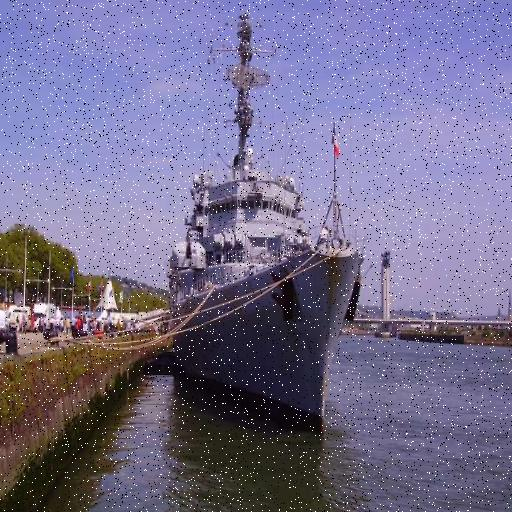Portanaves: (166, 1, 366, 436)
